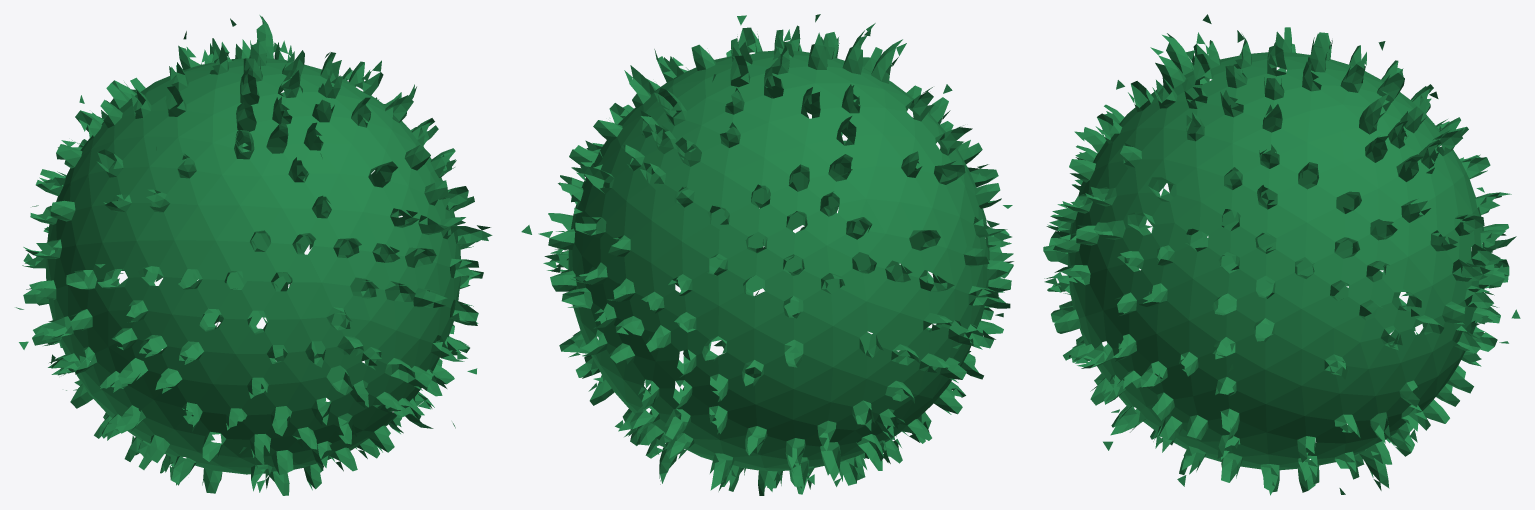
Rendered from B细胞.obj.
3 views of the same model, side by side, from view 1: azimuth 30°, elevation 25°; view 2: azimuth 150°, elevation 25°; view 3: azimuth 270°, elevation 25° (orthographic).
Parts seen in each view (by area): view 1: VRayProxy003; view 2: VRayProxy003; view 3: VRayProxy003.
Boxes of the visible parts, x1,y1,x2,y2 form: VRayProxy003: [15, 15, 492, 495]; VRayProxy003: [521, 14, 1013, 495]; VRayProxy003: [1043, 14, 1520, 495].
Size of the model in its own units: 2.35 by 2.25 by 2.27.
